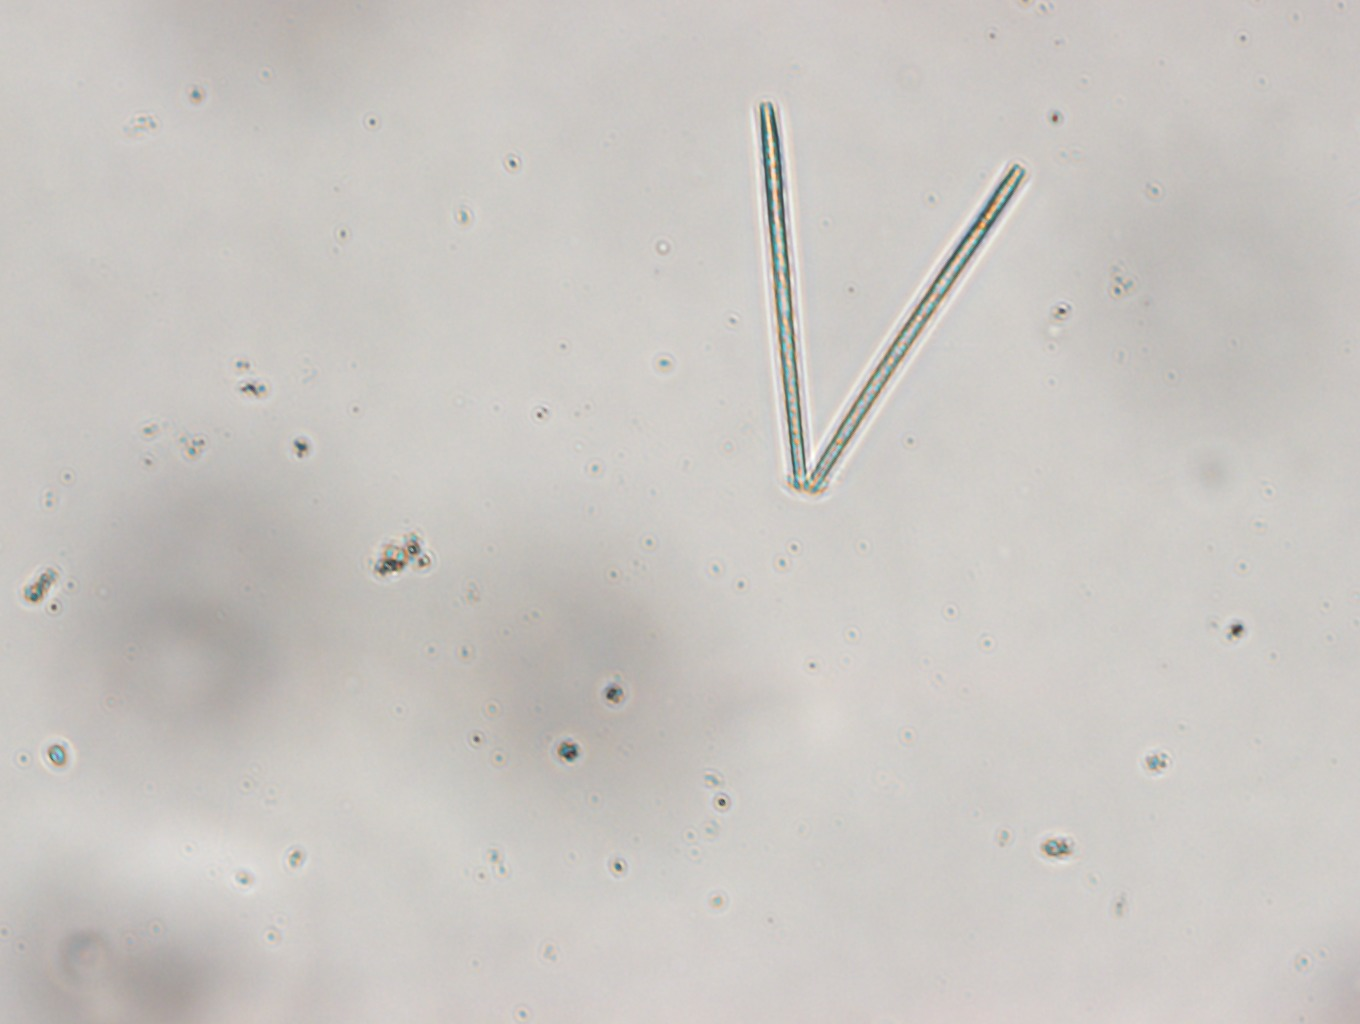thalassionema frauenfeldii: (757, 100, 1026, 494)
